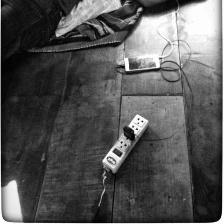phone: (120, 51, 161, 73)
three_eye_plug: (99, 111, 152, 175)
